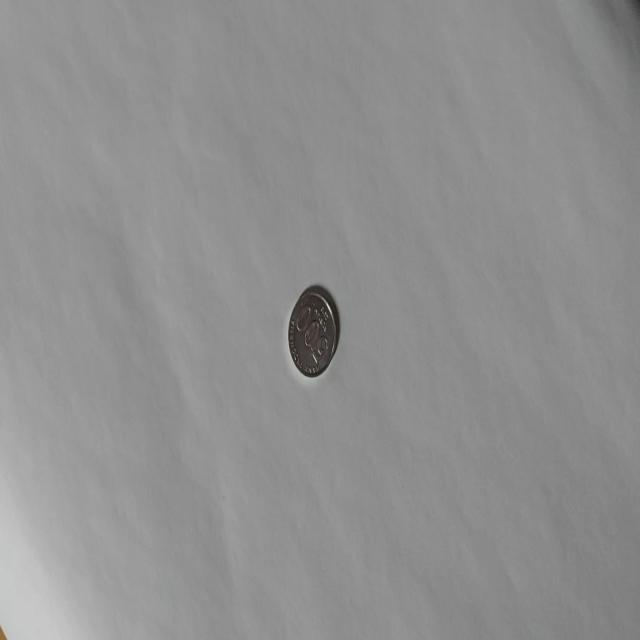lima ratus rupiah: (287, 284, 338, 378)
